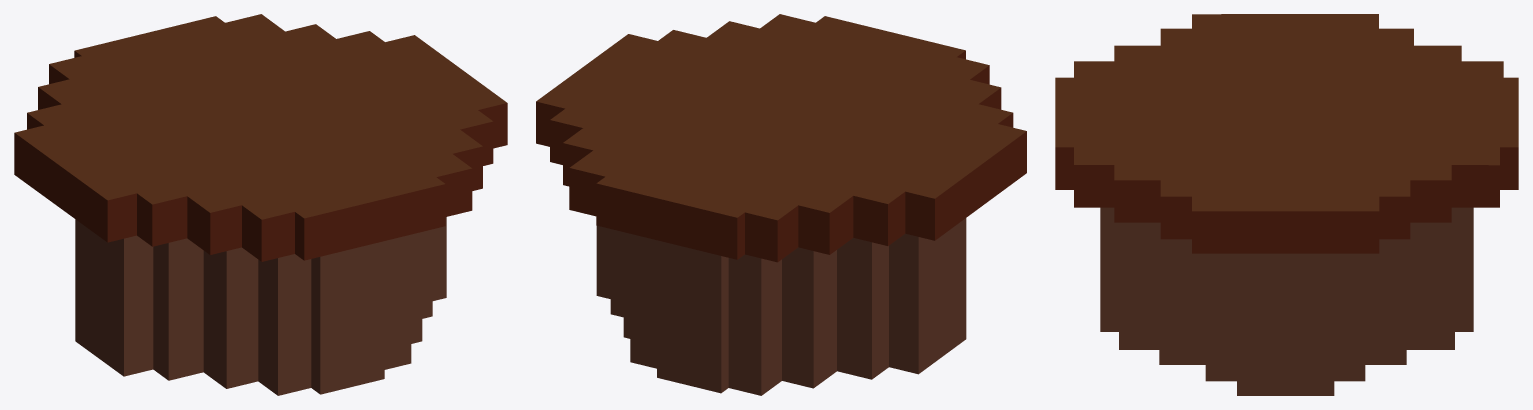
Rendered from Dining_Table.FBX.
3 views of the same model, side by side, from view 1: azimuth 30°, elevation 25°; view 2: azimuth 150°, elevation 25°; view 3: azimuth 270°, elevation 25° (orthographic).
Visible parts, largest first — view 1: dining table; view 2: dining table; view 3: dining table.
Boxes of the visible parts, box(x1,y1,x2,y2) form: dining table: box(14, 14, 507, 395); dining table: box(536, 14, 1026, 395); dining table: box(1055, 14, 1518, 395).
Size of the model in its own units: 1.6 by 0.7701 by 1.59.
